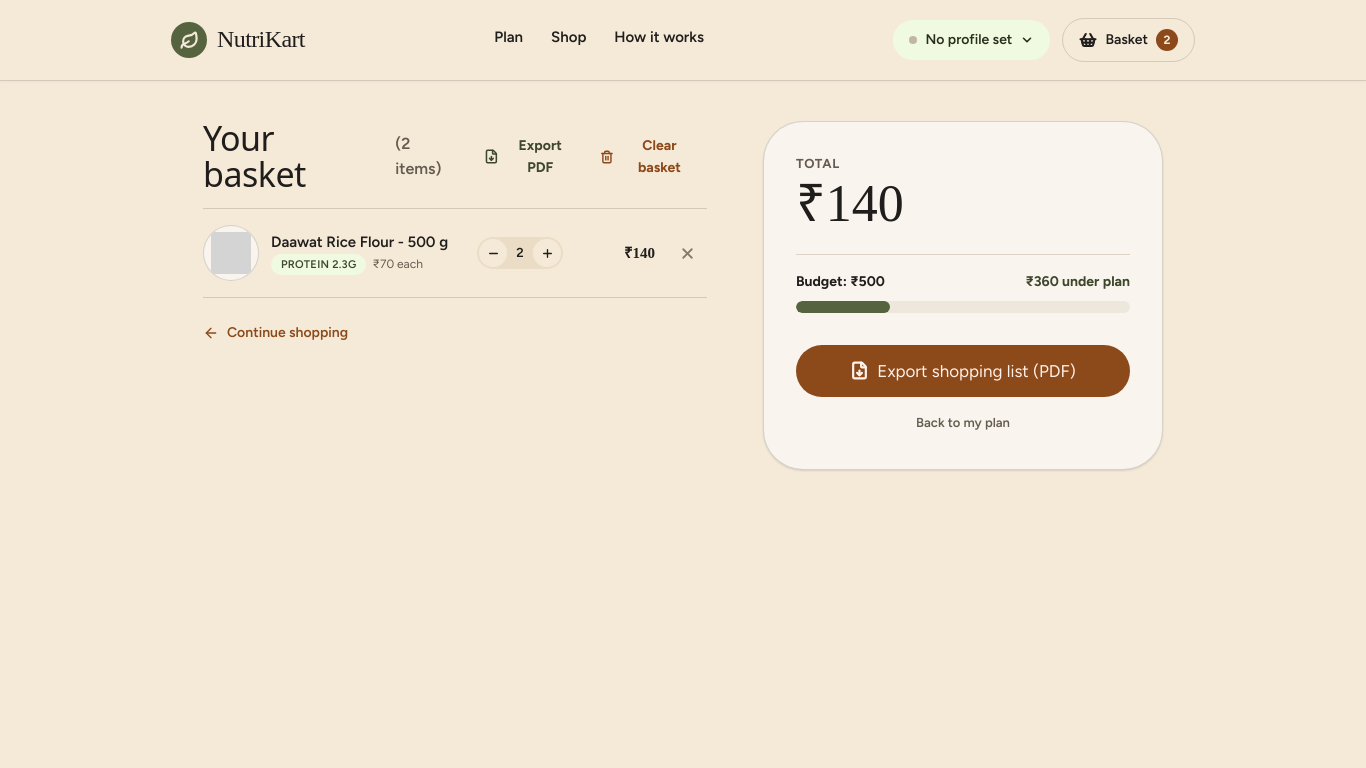
Test: Basket Page Experience › triggers removal and displays undo toast on remove button click
This screenshot has width=1366, height=768.
Expected: the link "Daawat Rice Flour - 500 g" is shown, [271,232,457,252]
Click the button named "Remove Daawat Rice Flour - 500 g from basket": (687, 253) [667,233,707,273]
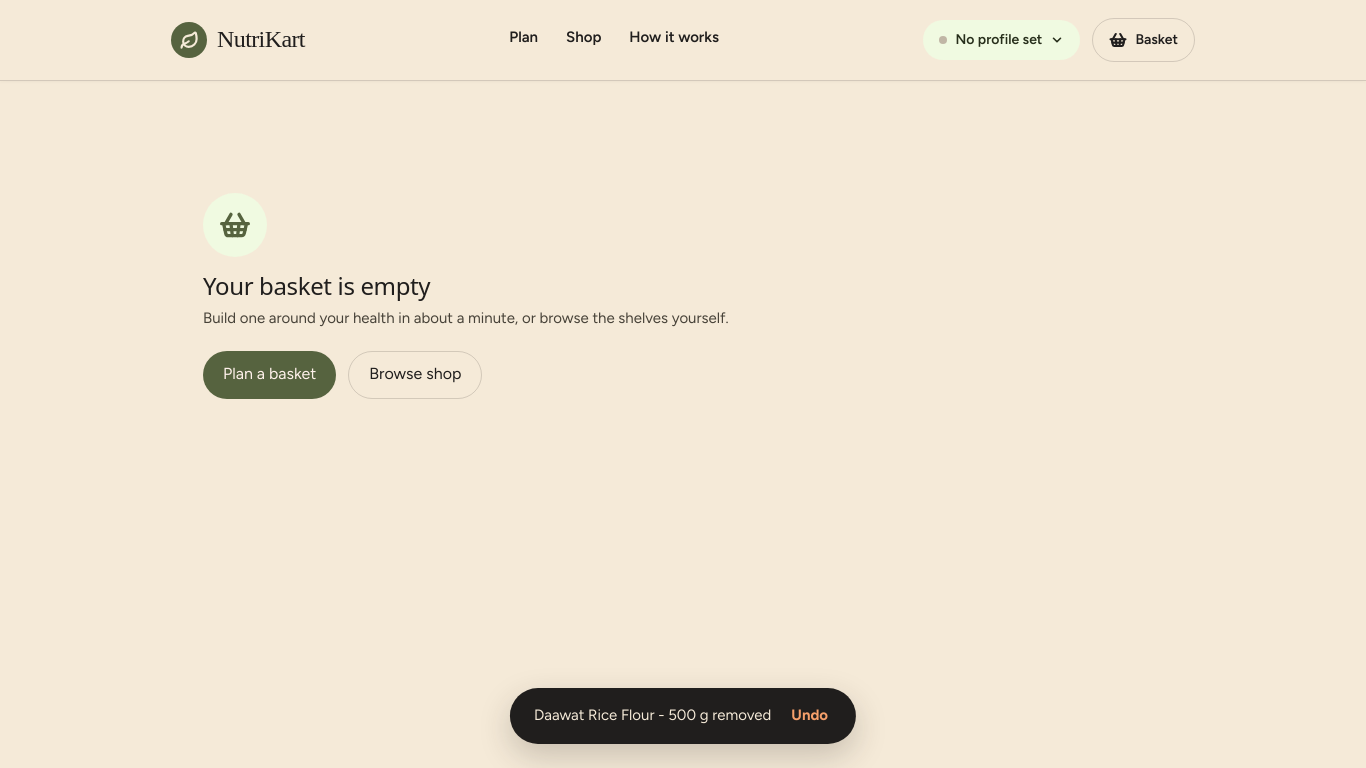
Result: the button "Undo" is shown at [787,704,832,728]
